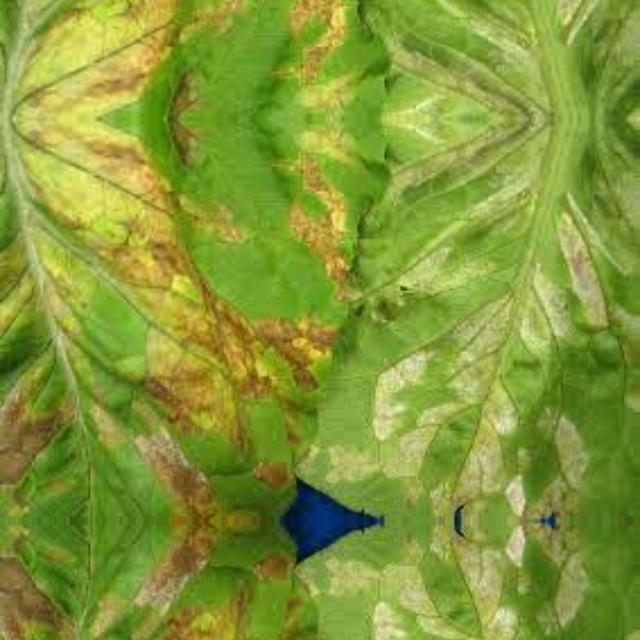Downy_mildew: (298, 118, 640, 520), (298, 520, 639, 640), (298, 0, 639, 118)
Lettuce - Anthracnose: (1, 122, 390, 520), (0, 520, 389, 640), (0, 0, 389, 114)
